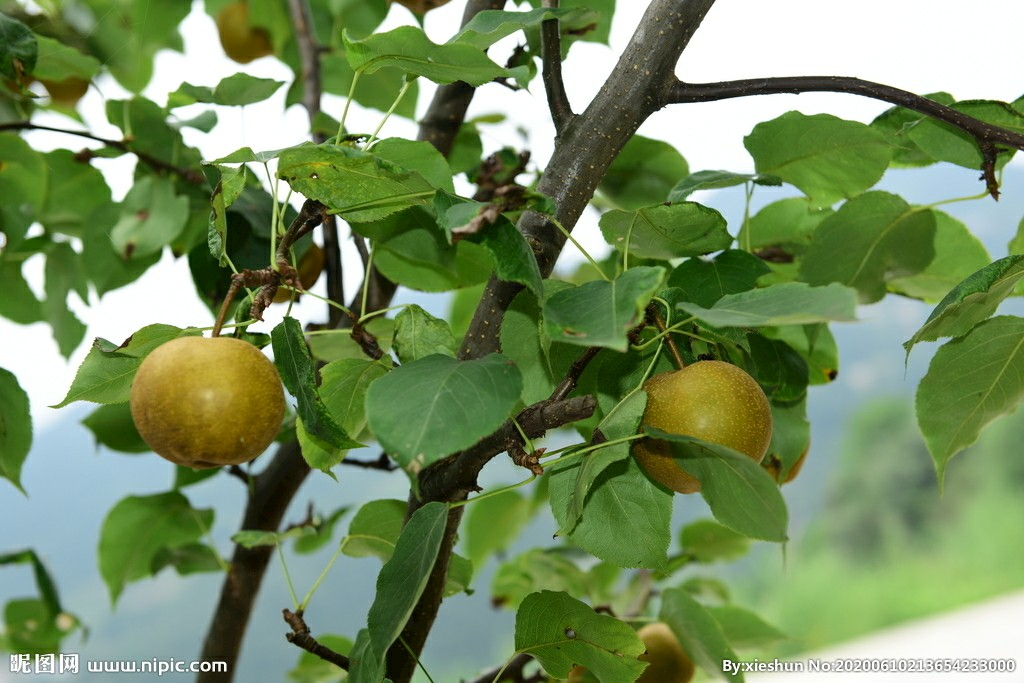pear: (131, 335, 283, 467), (632, 358, 773, 492)
